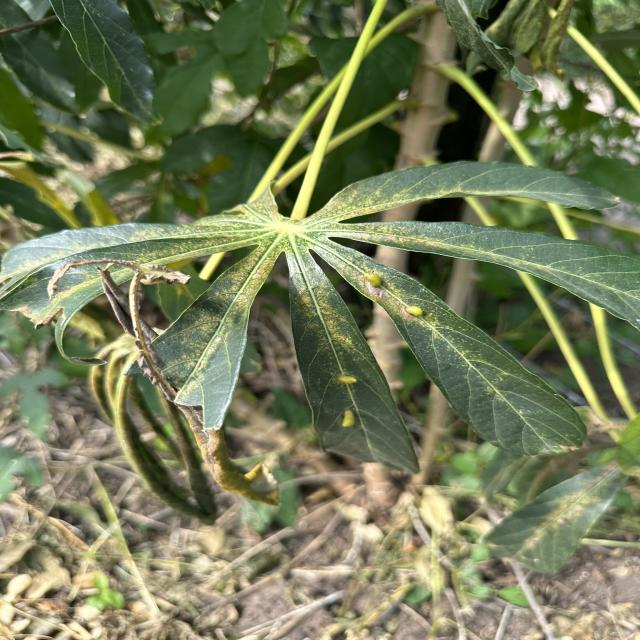Mosca: (332, 363, 372, 439), (396, 289, 436, 322), (356, 263, 385, 305)
